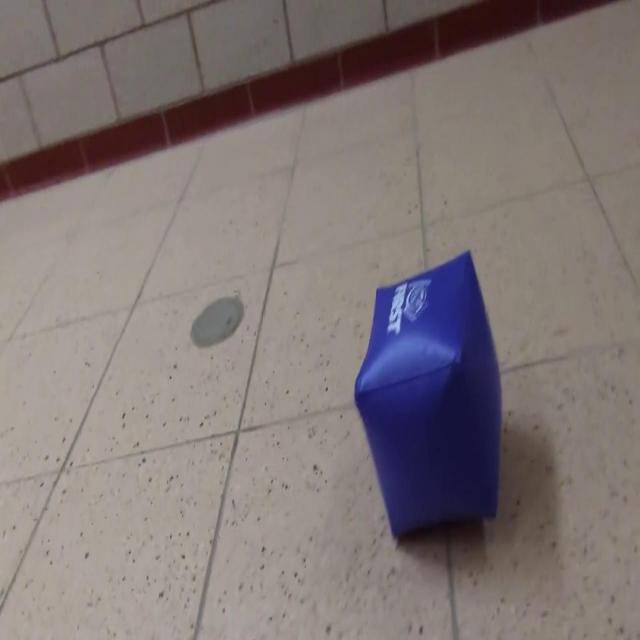frc_cube: (354, 247, 500, 540)
